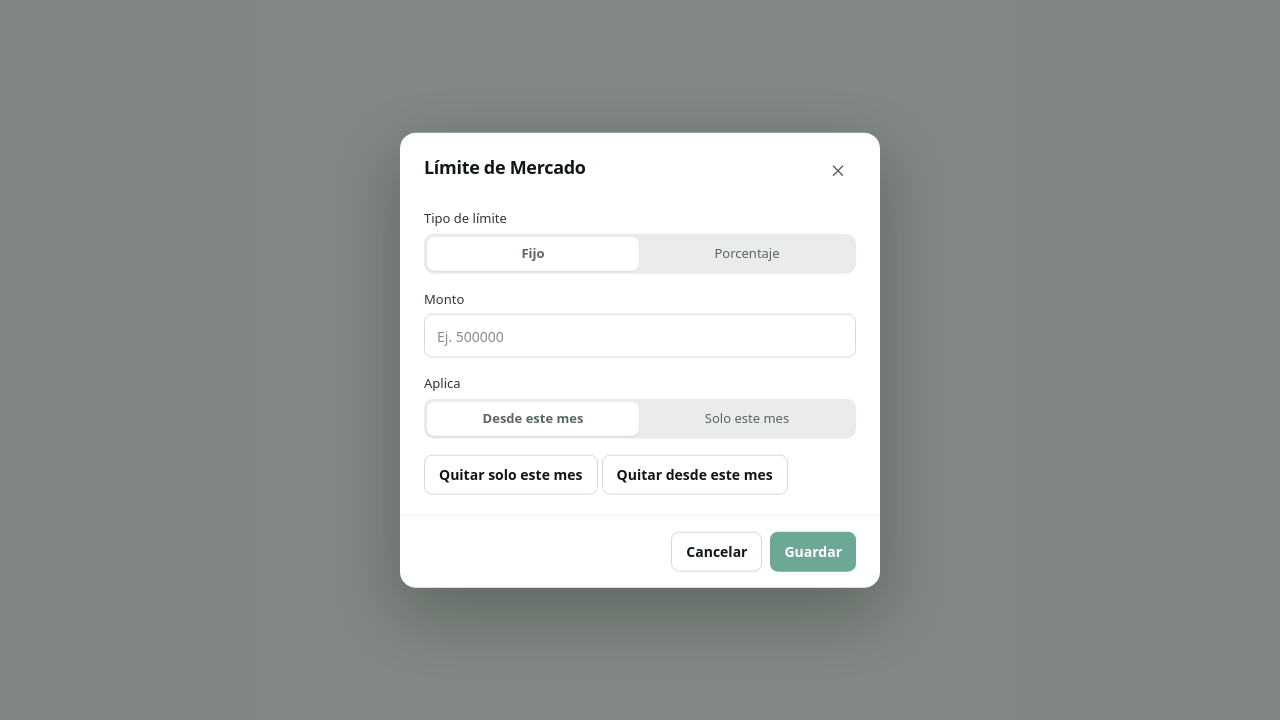
LineEditorDialog › blocks a percent over 100 with an inline message
Click the button "Porcentaje": (747, 253) [641,236,853,270]
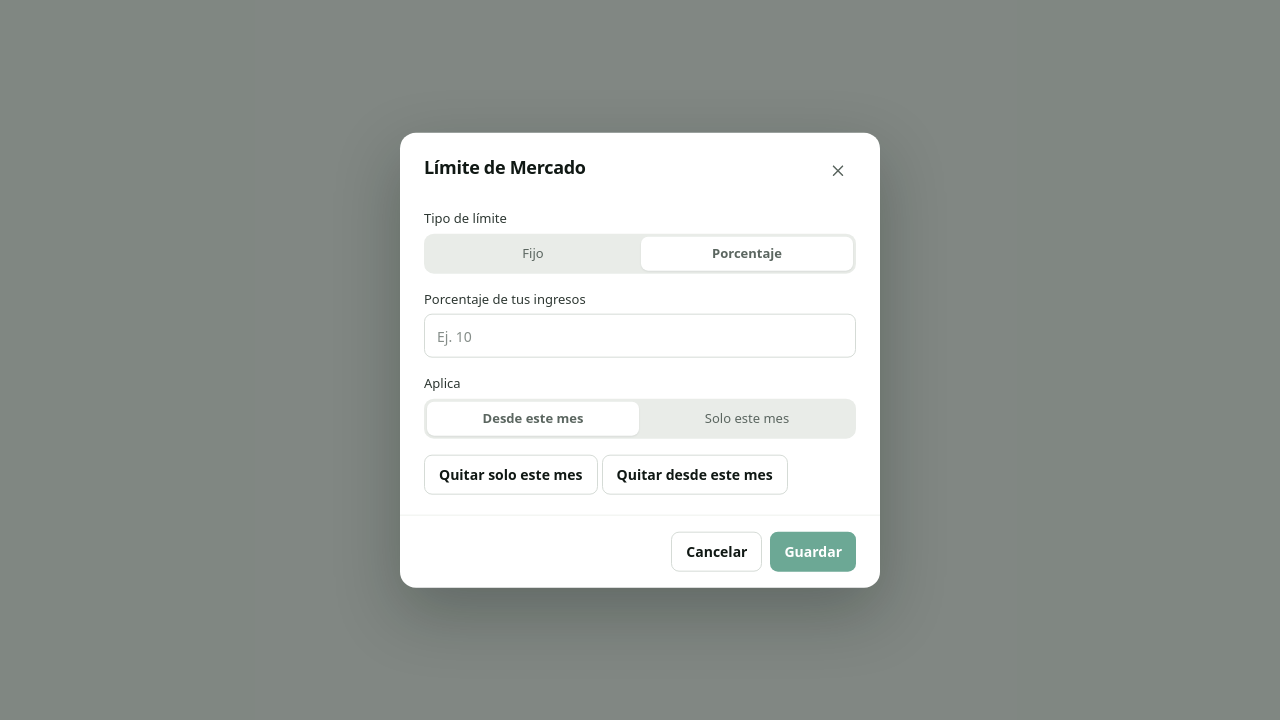
In the field labelled "Porcentaje de tus ingresos": (640, 336) [424,314,856,358], type "100,5"
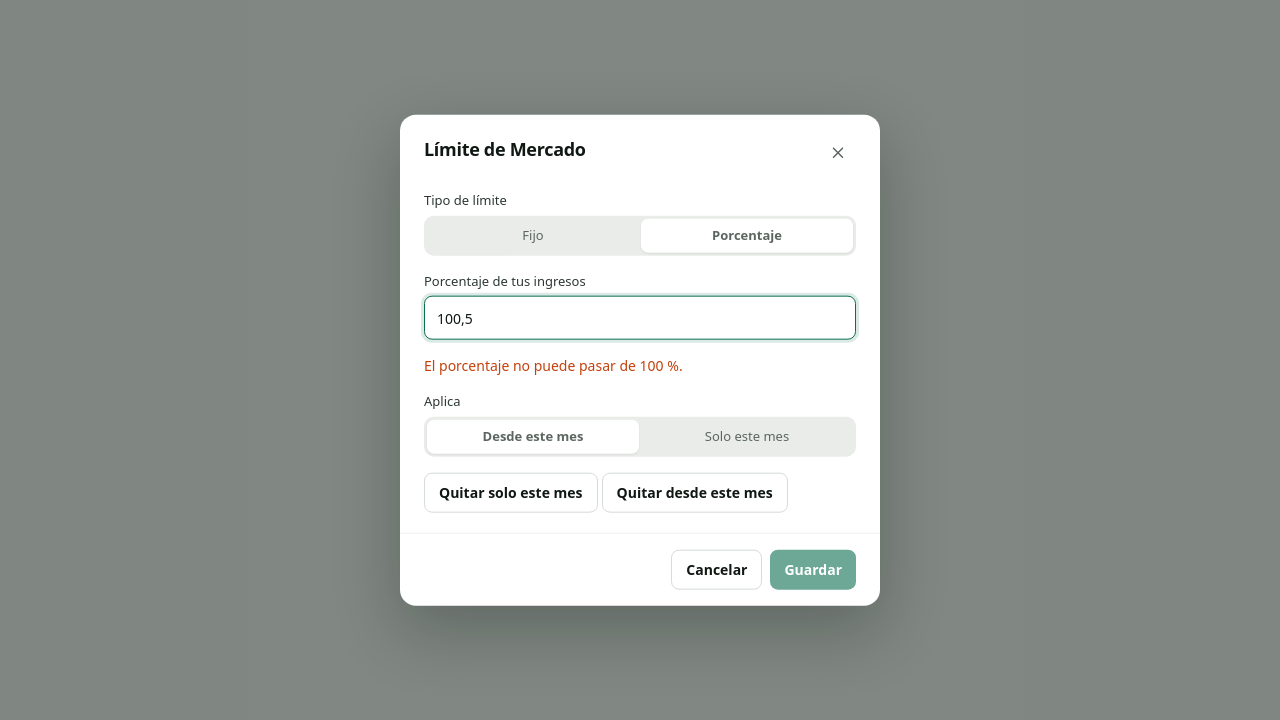
Check: the button "Guardar" is disabled, box [770,549,856,589]
Check: the text "El porcentaje no puede pasar de 100 %." is shown, box [424,356,683,375]
